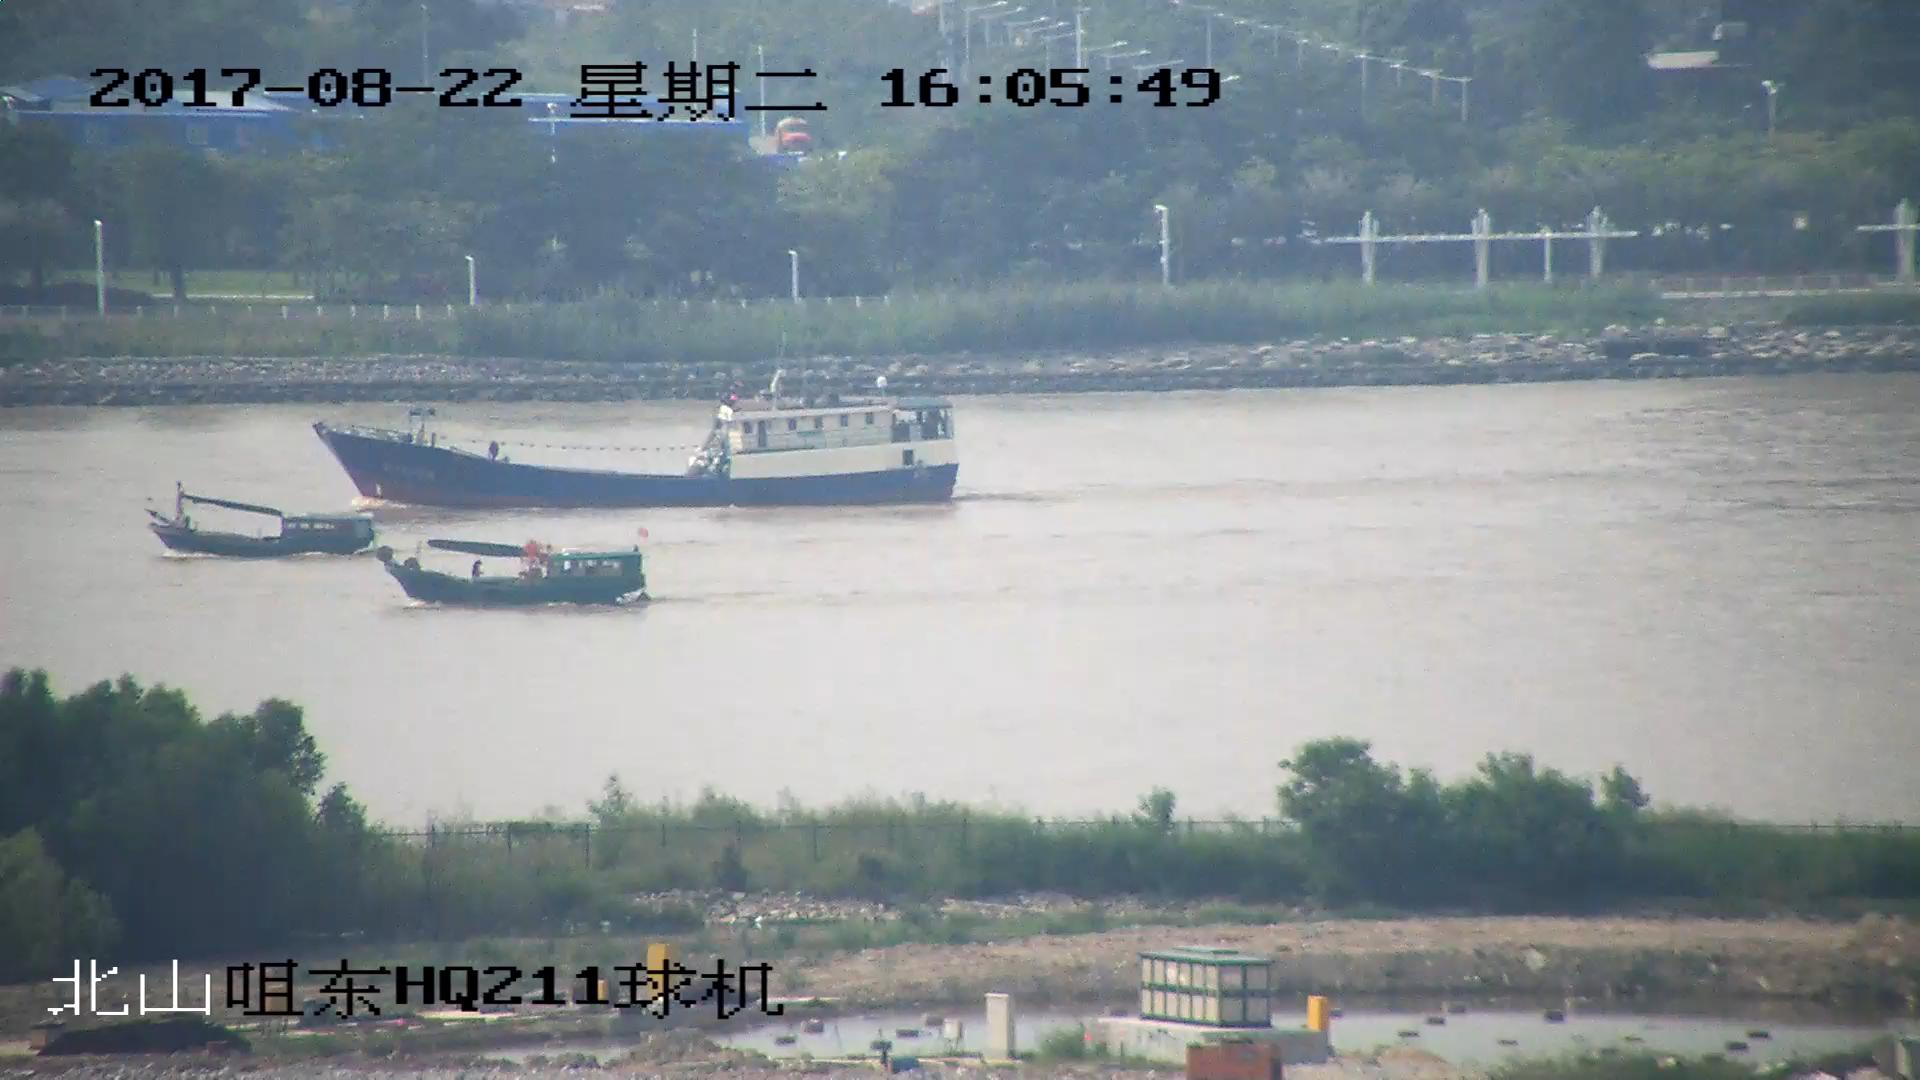fishing boat: (310, 371, 961, 514), (370, 531, 653, 610), (144, 486, 370, 561)
